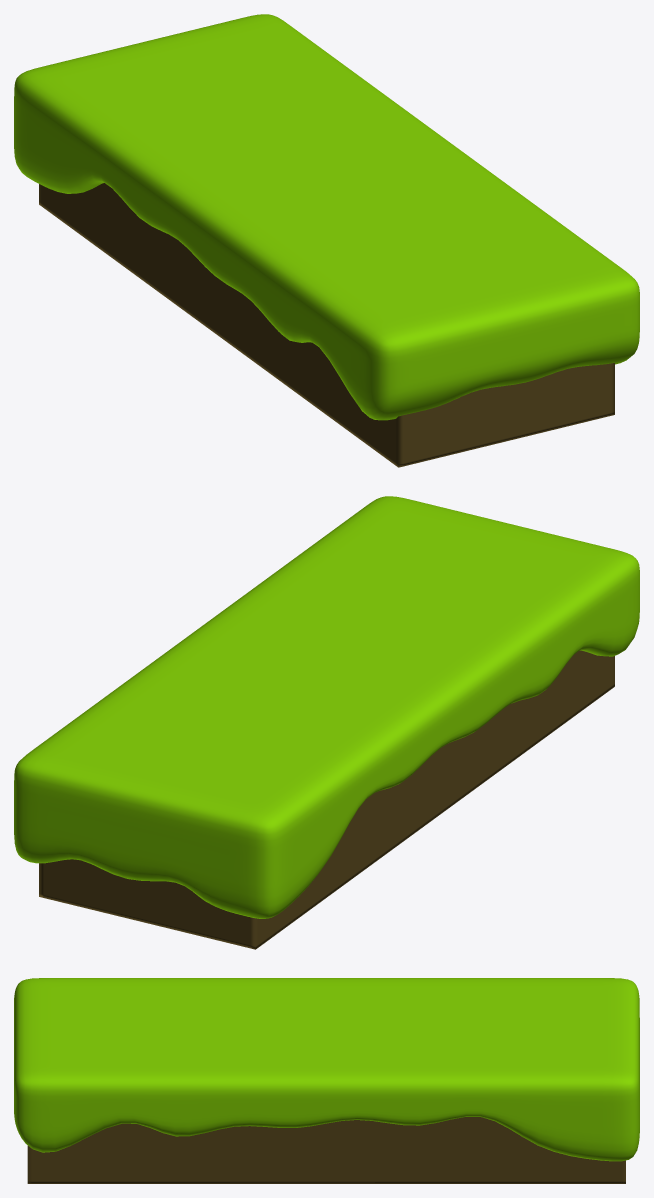
The model's file is Plataforma1.fbx.
The picture shows the model from 3 angles, top to bottom: view 1: azimuth 30°, elevation 25°; view 2: azimuth 150°, elevation 25°; view 3: azimuth 270°, elevation 25°; orthographic projection. The views are drawn at different scales.
Visible parts, largest first — view 1: Cube.001, Cube; view 2: Cube.001, Cube; view 3: Cube.001, Cube.
Part boxes in pixels (x1=…): Cube.001: x1=14, y1=14, x2=639, y2=420; Cube: x1=39, y1=183, x2=614, y2=467; Cube.001: x1=14, y1=496, x2=639, y2=918; Cube: x1=39, y1=650, x2=614, y2=949; Cube.001: x1=14, y1=978, x2=639, y2=1161; Cube: x1=27, y1=1117, x2=625, y2=1183.
Size of the model in its own units: 247 by 120 by 602.
